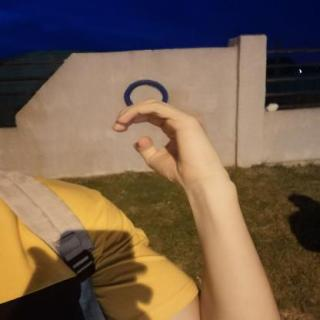JEEM: (101, 91, 238, 192)
